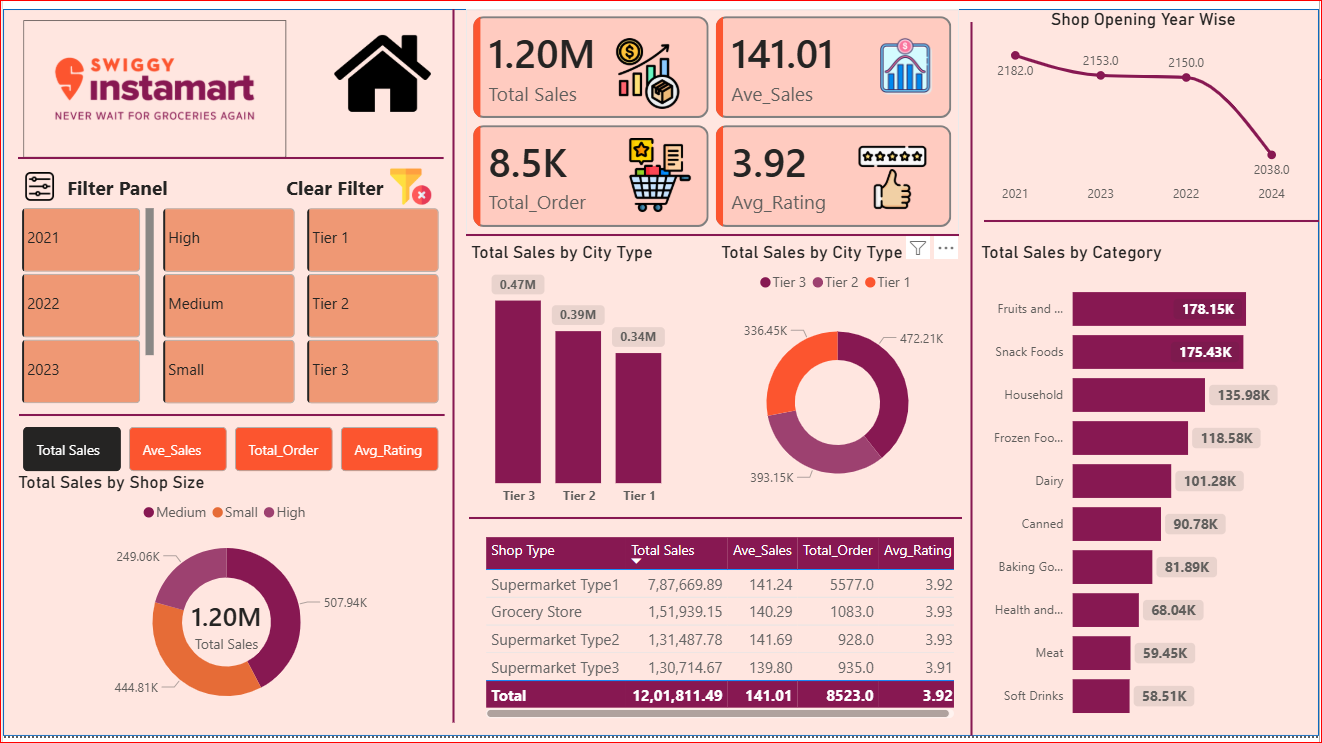

The page's visual inventory and layout, read from the dashboard file:
{"tool":"powerbi","page":{"name":"Instamark_data","canvas":[1280,720],"ordinal":0},"visuals":[{"type":"shape","box":[0,12.6,1280,707.1],"z":0},{"type":"image","box":[9.7,23.3,275.3,134.2],"z":1000},{"type":"cardVisual","fields":{"Data":["Grocery Shop.Total Sales","Grocery Shop.Ave_Sales","Grocery Shop.Total_Order","Grocery Shop.Avg_Rating"]},"box":[450.3,12.6,479.5,219.8],"z":2000},{"type":"advancedSlicerVisual","fields":{"Values":["Matric.Matric"]},"box":[14.6,419.2,415.3,43.8],"z":3000},{"type":"donutChart","fields":{"Y":["Grocery Shop.Total Sales"],"Category":["Grocery Shop.Shop Size"]},"box":[9.7,463,415.3,244.1],"z":4000},{"type":"cardVisual","fields":{"Data":["Grocery Shop.Total Sales"]},"box":[132.3,538.8,170.2,145.9],"z":5000},{"type":"clusteredColumnChart","title":"Total Sales by City Type","fields":{"Category":["Grocery Shop.Shop City Type"],"Y":["Grocery Shop.Total Sales"]},"box":[450.3,239.3,220.8,264.6],"z":6000},{"type":"donutChart","title":"Total Sales by City Type","fields":{"Category":["Grocery Shop.Shop City Type"],"Y":["Grocery Shop.Total Sales"]},"box":[693.5,239.3,236.4,264.6],"z":7000},{"type":"tableEx","fields":{"Values":["Grocery Shop.Shop Type","Grocery Shop.Total Sales","Grocery Shop.Ave_Sales","Grocery Shop.Total_Order","Grocery Shop.Avg_Rating"]},"box":[464,521.3,465.9,185.8],"z":8000},{"type":"lineChart","title":"Shop Opening Year Wise","fields":{"Category":["Grocery Shop.Shop Opening Year"],"Y":["Grocery Shop.Total_Order"]},"box":[946.4,12.6,325.8,197.4],"z":9000},{"type":"clusteredBarChart","fields":{"Category":["Grocery Shop.Category"],"Y":["Grocery Shop.Total Sales"]},"box":[946.4,239.3,325.8,480.5],"z":10000},{"type":"advancedSlicerVisual","fields":{"Values":["Grocery Shop.Shop Opening Year"]},"box":[13.6,201.3,138.1,201.3],"z":11000},{"type":"advancedSlicerVisual","fields":{"Values":["Grocery Shop.Shop Size"]},"box":[150.8,201.3,138.1,201.3],"z":12000},{"type":"advancedSlicerVisual","fields":{"Values":["Grocery Shop.Shop City Type"]},"box":[290.8,201.3,138.1,201.3],"z":13000},{"type":"textbox","box":[57.4,168.3,127.4,35],"z":14000},{"type":"image","box":[12.6,171.2,45.7,28.2],"z":15000},{"type":"textbox","box":[270.4,168.3,127.4,35],"z":16000},{"type":"image","box":[370.6,165.3,51.6,39.9],"z":17000},{"type":"image","box":[313.2,28.2,111.9,94.3],"z":18000},{"type":"shape","box":[14.6,144,414.3,27.2],"z":19000},{"type":"shape","box":[15.6,393.9,414.3,27.2],"z":20000},{"type":"shape","box":[426,12.6,24.3,694.5],"z":21000},{"type":"shape","box":[929.8,25.3,24.3,694.5],"z":22000},{"type":"shape","box":[450.3,218.8,479.5,27.2],"z":23000},{"type":"shape","box":[453.3,494.1,479.5,27.2],"z":24000},{"type":"shape","box":[954.2,205.2,325.8,27.2],"z":25000},{"type":"image","box":[583.6,39.9,87.5,71],"z":25001},{"type":"image","box":[840.4,39.9,75.9,57.4],"z":25002},{"type":"image","box":[603,138.1,72.9,72],"z":25003},{"type":"image","box":[814.1,144,102.1,65.2],"z":25004}]}

Visuals, with their boxes in screenshot pixels (x1, y1, x2, y2), scaled from the page's 1280x720 canvas onto the 1322x743 screenshot:
shape: bbox(0, 13, 1321, 742)
image: bbox(10, 24, 294, 163)
cardVisual - Grocery Shop.Total Sales x Grocery Shop.Ave_Sales: bbox(465, 13, 960, 240)
advancedSlicerVisual - Matric.Matric: bbox(15, 433, 444, 478)
donutChart - Grocery Shop.Total Sales x Grocery Shop.Shop Size: bbox(10, 478, 439, 730)
cardVisual - Grocery Shop.Total Sales: bbox(137, 556, 312, 707)
"Total Sales by City Type" clusteredColumnChart: bbox(465, 247, 693, 520)
"Total Sales by City Type" donutChart: bbox(716, 247, 960, 520)
tableEx - Grocery Shop.Shop Type x Grocery Shop.Total Sales: bbox(479, 538, 960, 730)
"Shop Opening Year Wise" lineChart: bbox(977, 13, 1314, 217)
clusteredBarChart - Grocery Shop.Category x Grocery Shop.Total Sales: bbox(977, 247, 1314, 742)
advancedSlicerVisual - Grocery Shop.Shop Opening Year: bbox(14, 208, 157, 415)
advancedSlicerVisual - Grocery Shop.Shop Size: bbox(156, 208, 298, 415)
advancedSlicerVisual - Grocery Shop.Shop City Type: bbox(300, 208, 443, 415)
textbox: bbox(59, 174, 191, 210)
image: bbox(13, 177, 60, 206)
textbox: bbox(279, 174, 411, 210)
image: bbox(383, 171, 436, 212)
image: bbox(323, 29, 439, 126)
shape: bbox(15, 149, 443, 177)
shape: bbox(16, 406, 444, 435)
shape: bbox(440, 13, 465, 730)
shape: bbox(960, 26, 985, 742)
shape: bbox(465, 226, 960, 254)
shape: bbox(468, 510, 963, 538)
shape: bbox(986, 212, 1321, 240)
image: bbox(603, 41, 693, 114)
image: bbox(868, 41, 946, 100)
image: bbox(623, 143, 698, 217)
image: bbox(841, 149, 946, 216)
